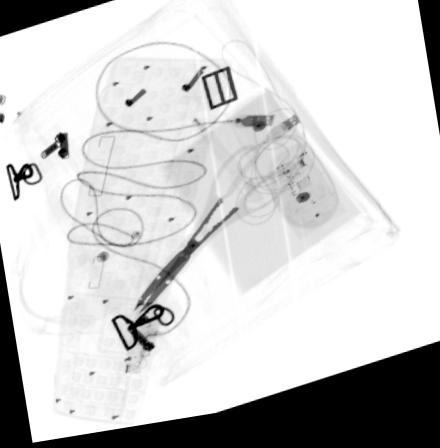Scissors: (132, 153, 281, 318)
